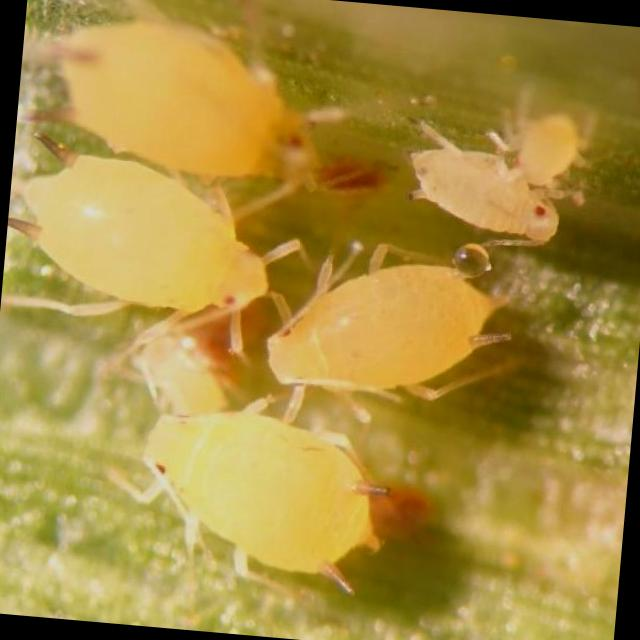aphid: (107, 399, 430, 602), (12, 144, 284, 352), (245, 230, 527, 428), (382, 112, 580, 270)
